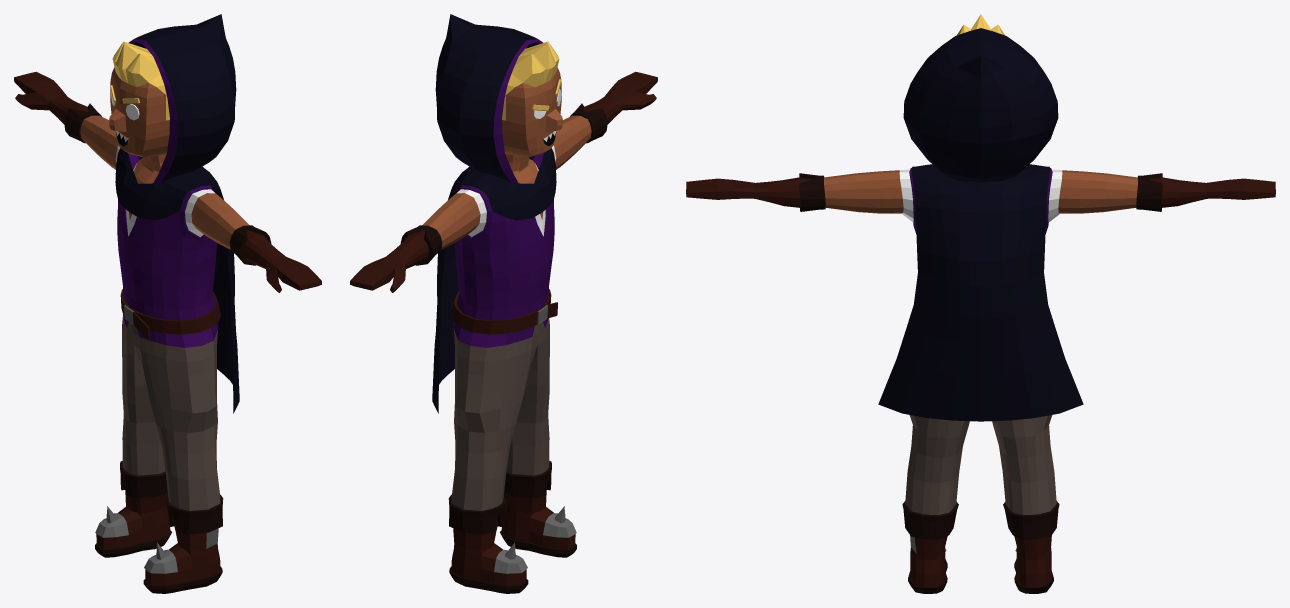
Rendered from Model_Rogue.fbx.
The picture shows the model from 3 angles, left to right: view 1: azimuth 30°, elevation 25°; view 2: azimuth 150°, elevation 25°; view 3: azimuth 270°, elevation 25°; orthographic projection. The views are drawn at different scales.
Visible parts, largest first — view 1: Rogue Model; view 2: Rogue Model; view 3: Rogue Model.
Boxes of the visible parts, box(x1,y1,x2,y2) form: Rogue Model: box(14, 14, 321, 593); Rogue Model: box(350, 14, 657, 593); Rogue Model: box(686, 14, 1275, 593).
Bounding box in the file's own units: 104 × 445 × 431.
